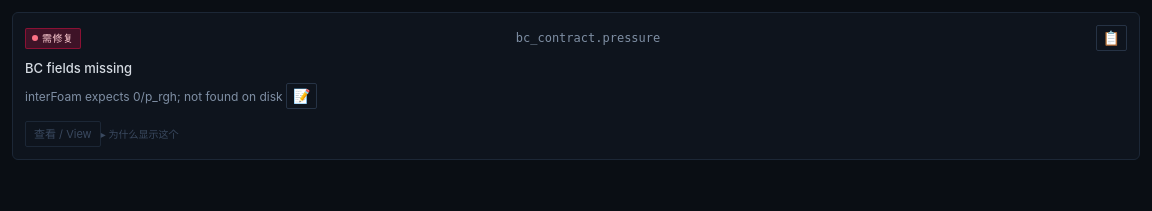
DynamicFramePanel › toggles provenance disclosure on click
Check: the text "step=4 · problem_fix · severity=fail" is not shown
Click the button "▸ 为什么显示这个" at (140, 134), box top-left (101, 126), bottom-right (178, 142)
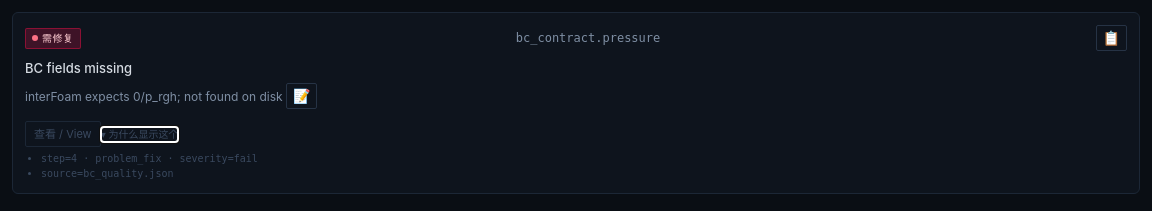
Check: the list item "step=4 · problem_fix · severity=fail" is shown, box top-left (41, 153), bottom-right (258, 164)
